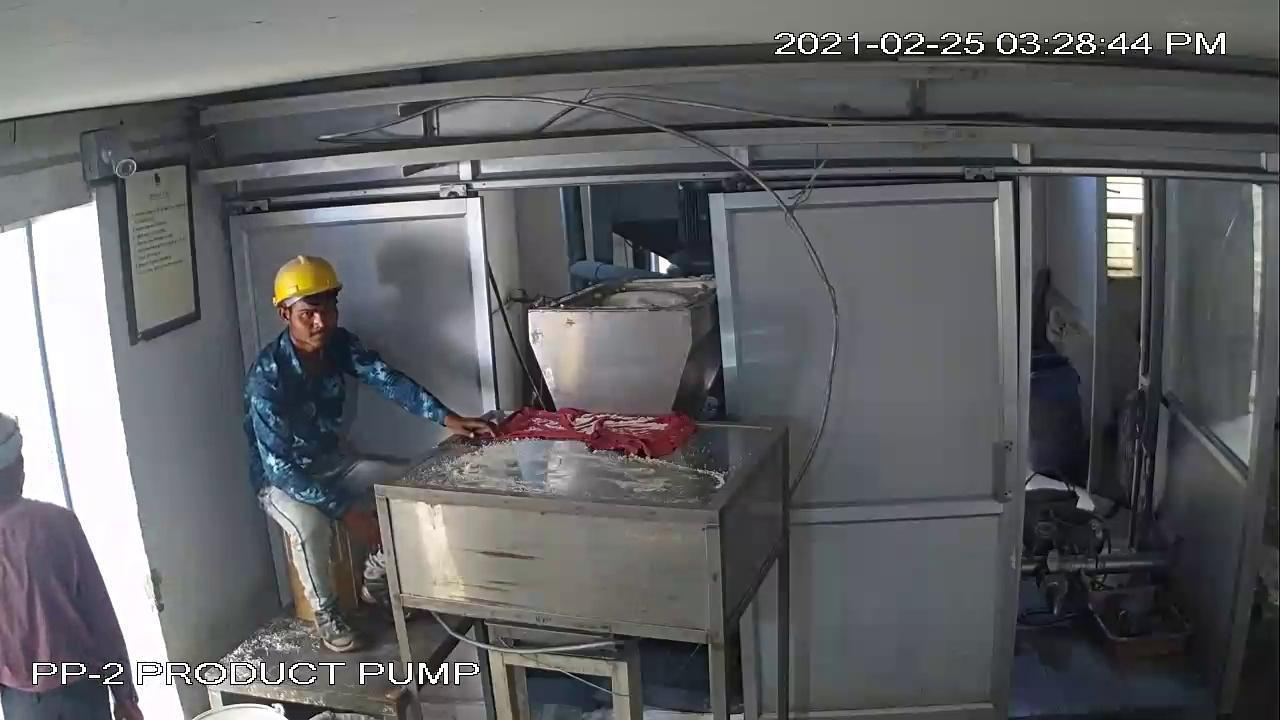helmet: (258, 244, 347, 321)
